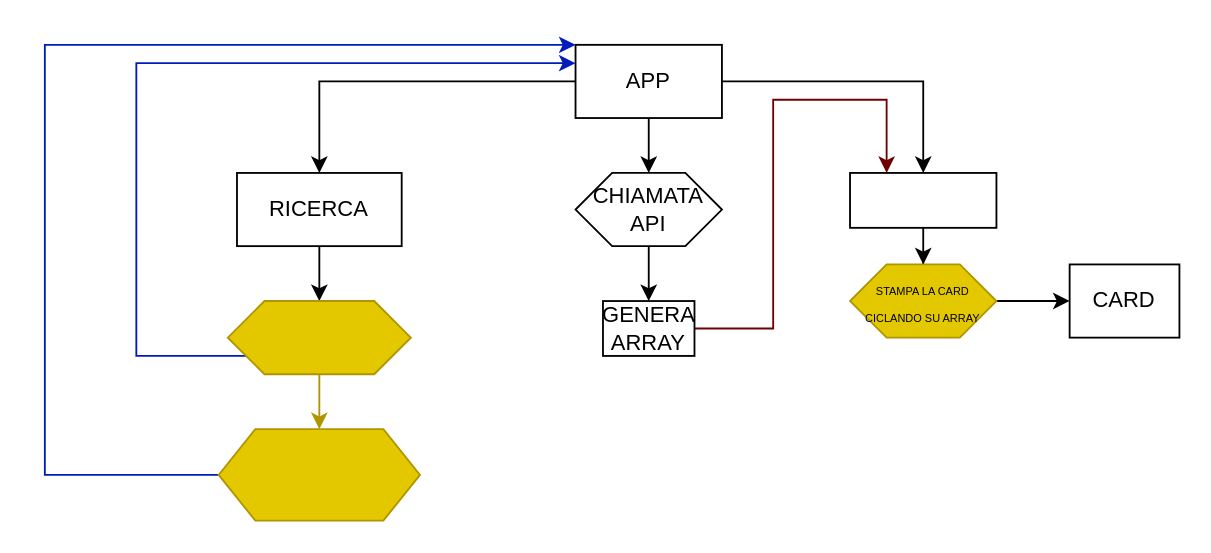
This 1211x553 diagram has some shape labels left out. Each missing label, with the centre of its shape:
PREME ENTER O PULSANTE CERCA: [318,474]
PRENDE IL DATO DALL'UTENTE: [318,336]
RESULT: [922,199]
